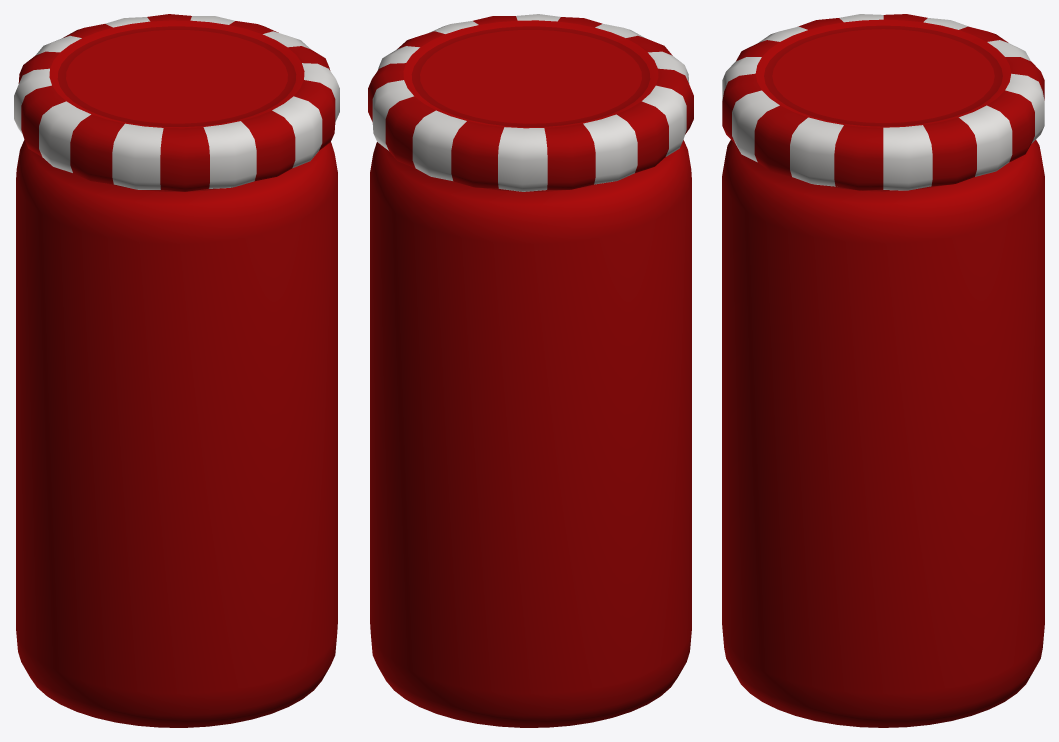
Rendered from kav2.glb.
3 views of the same model, side by side, from view 1: azimuth 30°, elevation 25°; view 2: azimuth 150°, elevation 25°; view 3: azimuth 270°, elevation 25° (orthographic).
Visible parts, largest first — view 1: kav2; view 2: kav2; view 3: kav2.
Part boxes in pixels (bbox=[...]): kav2: bbox=[14, 14, 339, 727]; kav2: bbox=[368, 14, 693, 727]; kav2: bbox=[722, 14, 1044, 727].
Bounding box in the file's own units: 1.51 × 3.08 × 1.51.
